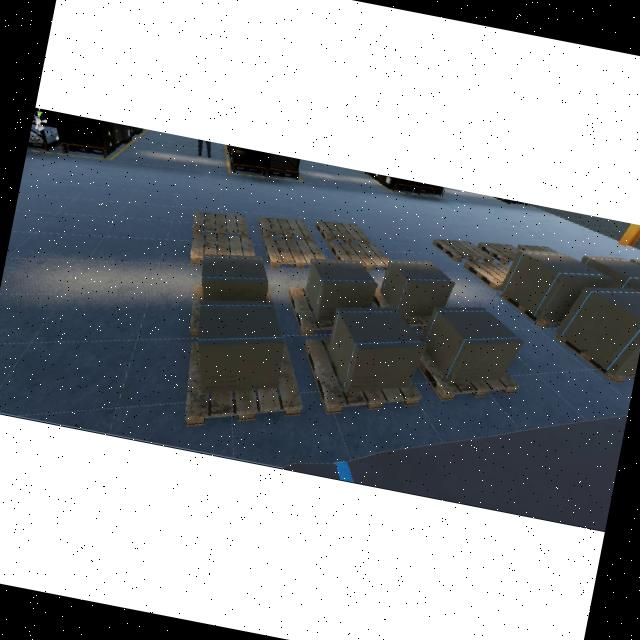wooden_pallet: (184, 339, 304, 426), (303, 338, 421, 415), (417, 333, 521, 400), (554, 332, 634, 383), (500, 291, 565, 329), (287, 288, 335, 334), (190, 233, 257, 265), (263, 238, 326, 268), (328, 243, 389, 271), (431, 238, 495, 263), (192, 210, 248, 236), (257, 217, 313, 241), (314, 221, 371, 244), (462, 263, 510, 290), (476, 242, 521, 265)
